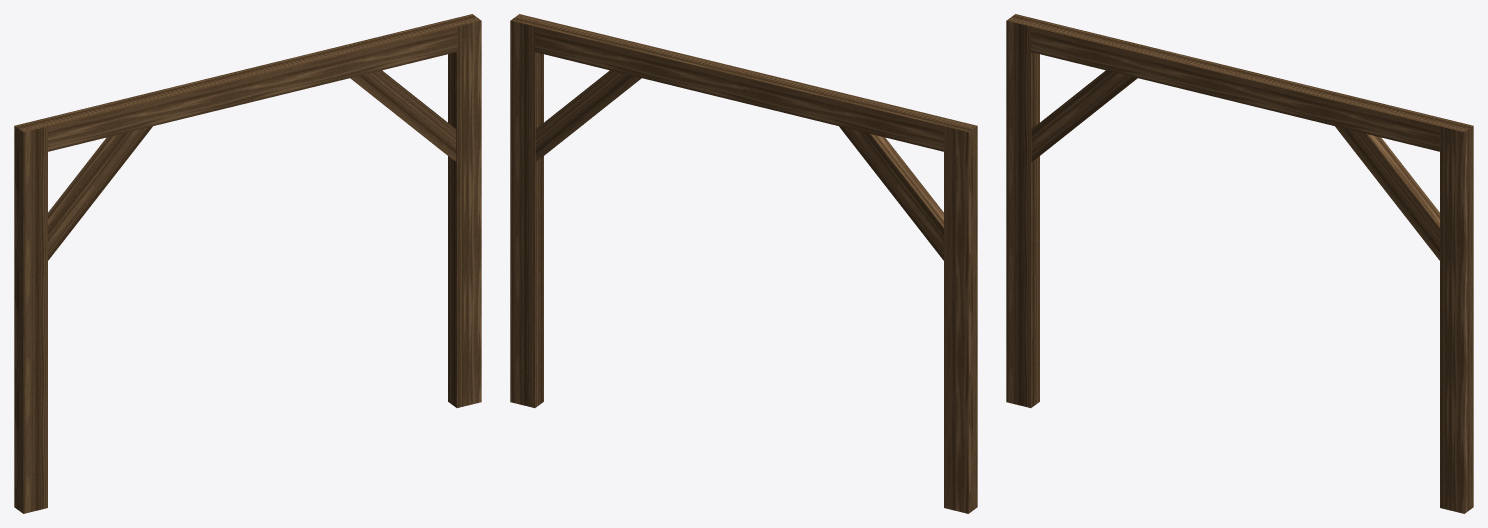
Rendered from Wooden 09.glb.
3 views of the same model, side by side, from view 1: azimuth 30°, elevation 25°; view 2: azimuth 150°, elevation 25°; view 3: azimuth 330°, elevation 25° (orthographic).
Visible parts, largest first — view 1: Wooden_09; view 2: Wooden_09; view 3: Wooden_09.
Part boxes in pixels (x1=…): Wooden_09: x1=14, y1=14, x2=481, y2=513; Wooden_09: x1=510, y1=14, x2=977, y2=513; Wooden_09: x1=1006, y1=14, x2=1473, y2=513.
Size of the model in its own units: 1.48 by 1.18 by 0.0504.
Materials: 1 (1 with a texture image).
